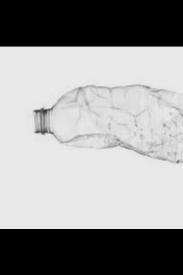Plastic: (20, 80, 182, 166)
